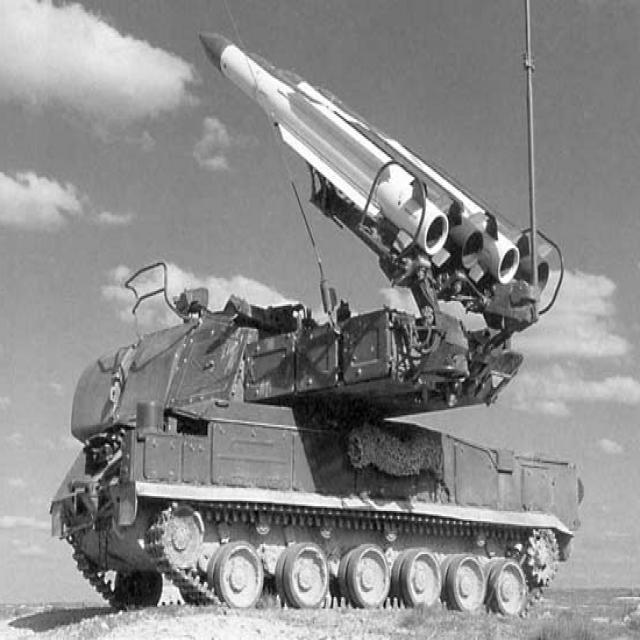missile: (195, 15, 532, 288)
